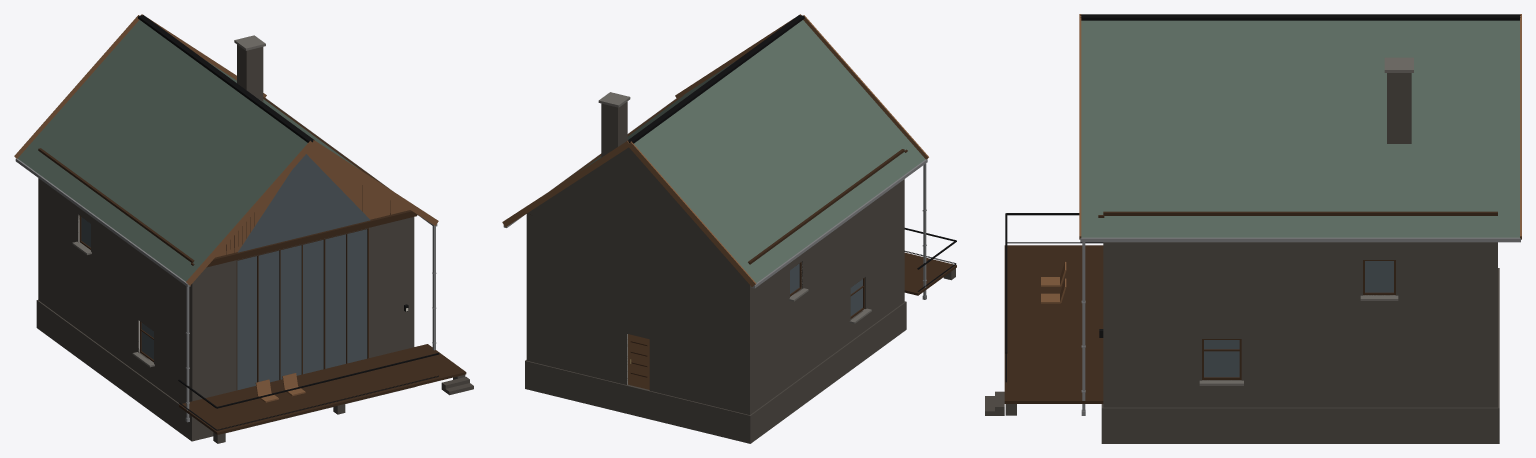
Rendered from hill_cottage_10x12_2_far.glb.
3 views of the same model, side by side, from view 1: azimuth 30°, elevation 25°; view 2: azimuth 150°, elevation 25°; view 3: azimuth 270°, elevation 25° (orthographic). The views are drawn at different scales.
Parts seen in each view (by area): view 1: hill_cottage_10x12_2; view 2: hill_cottage_10x12_2; view 3: hill_cottage_10x12_2.
Boxes of the visible parts, box(x1,y1,x2,y2) form: hill_cottage_10x12_2: box(14, 14, 473, 443); hill_cottage_10x12_2: box(502, 14, 956, 443); hill_cottage_10x12_2: box(985, 14, 1521, 443).
Bounding box in the file's own units: 11.36 × 12.04 × 16.33.
